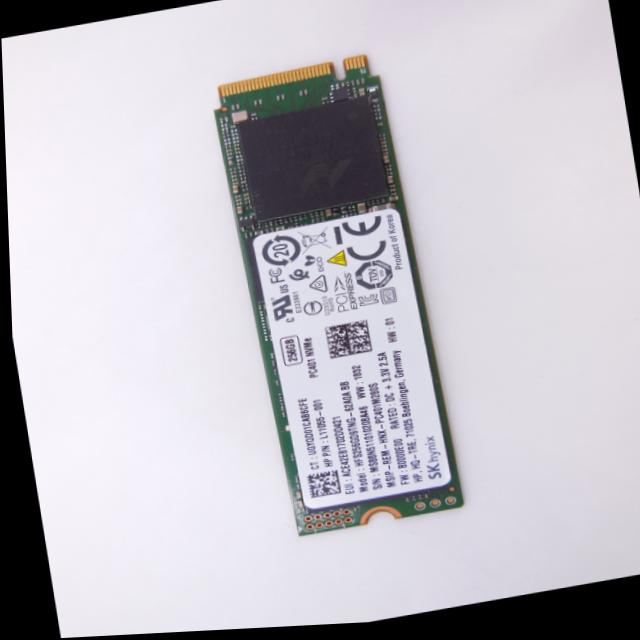datamatrix: (321, 323, 370, 362), (303, 472, 337, 501)
